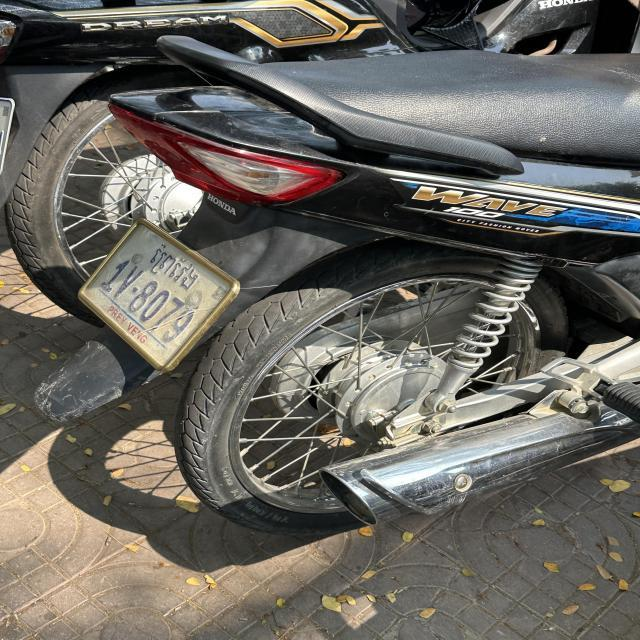Prey_Veng: (150, 242, 199, 290)
